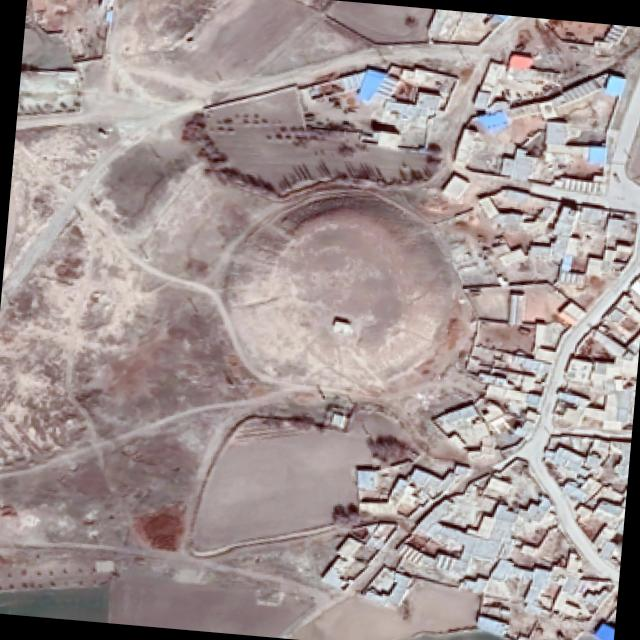artifacts: (459, 325, 635, 462), (502, 476, 620, 588), (454, 188, 575, 296), (324, 498, 436, 609), (535, 115, 615, 193), (472, 57, 564, 122), (355, 463, 435, 529)
ruins: (117, 0, 377, 108), (1, 123, 130, 325), (132, 153, 269, 292), (21, 19, 80, 74)
